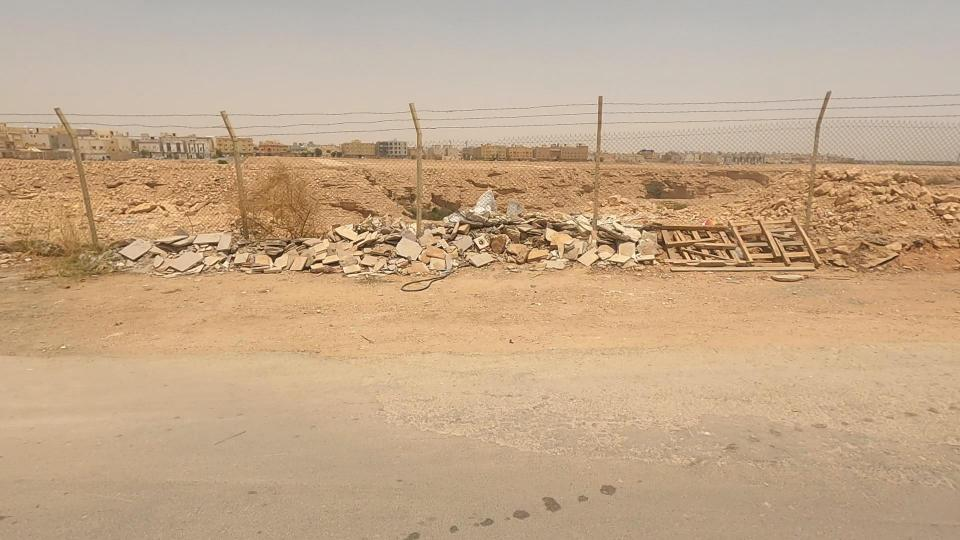GARBAGE: (573, 162, 908, 326), (307, 190, 501, 324), (92, 208, 285, 304), (392, 166, 582, 260), (221, 215, 357, 298), (525, 191, 672, 259)
